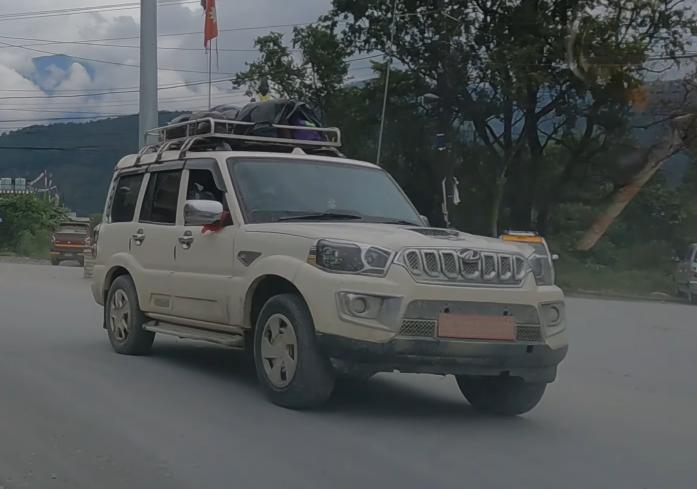SUV: (93, 104, 566, 419)
